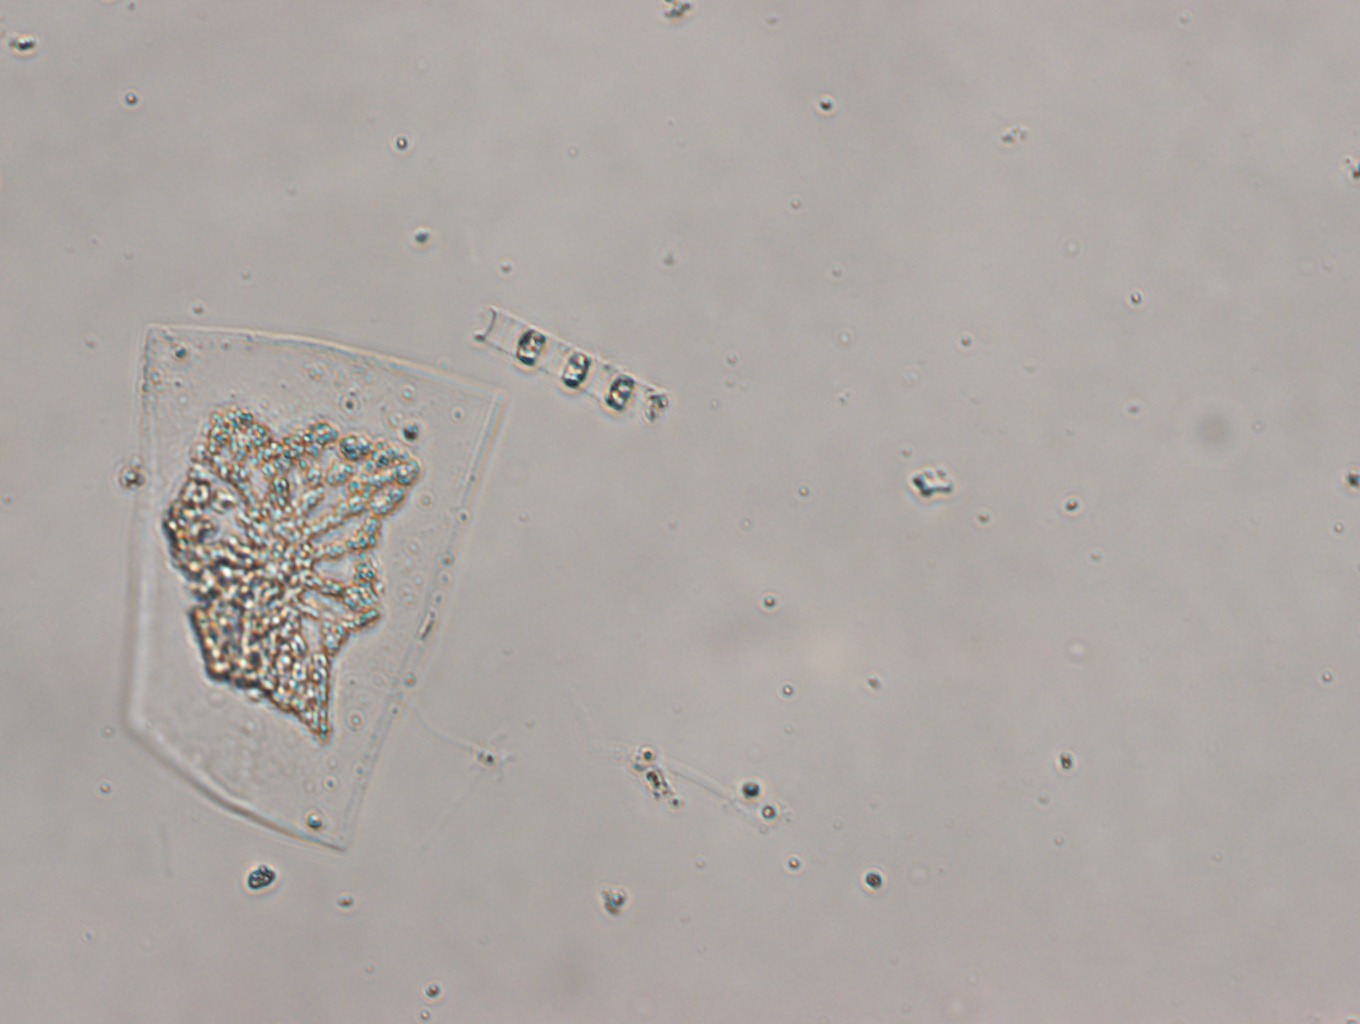helicotheca: (115, 321, 512, 859)
skeletonema: (476, 308, 672, 428)
